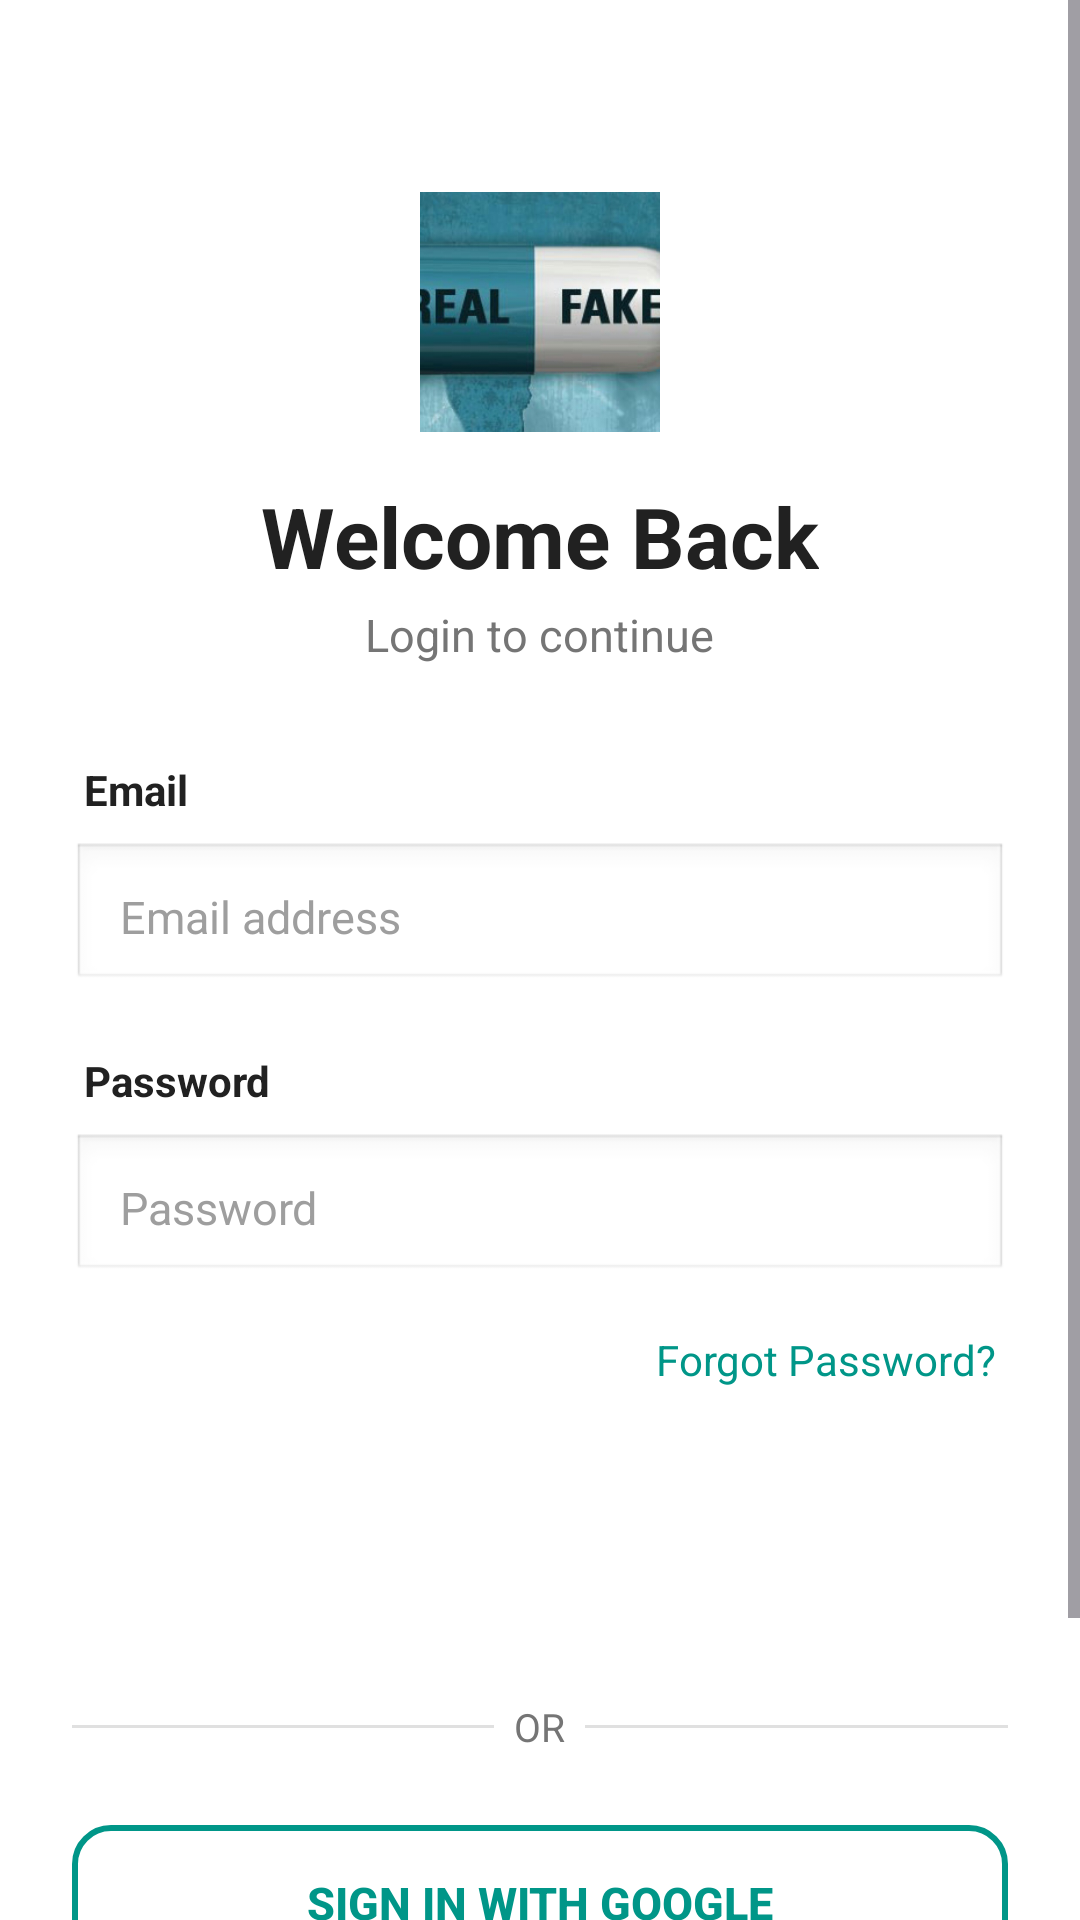

Point at icon controls on the screen. Image size 1080px x 1920px, points as point (x, y).
fake medicine: point (540, 312)
